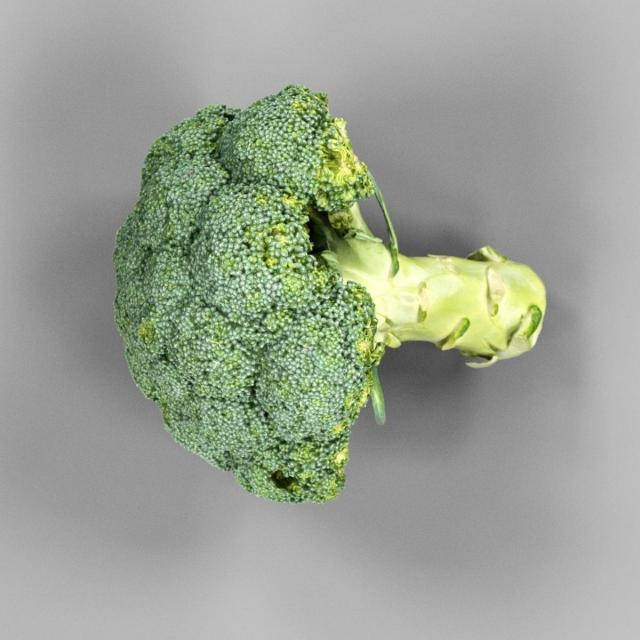broccoli: (111, 81, 552, 513)
